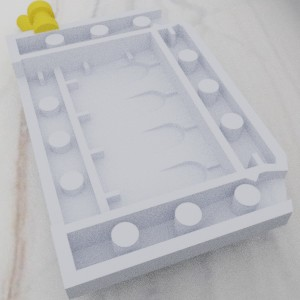lego: (4, 5, 292, 300), (16, 0, 61, 94)
